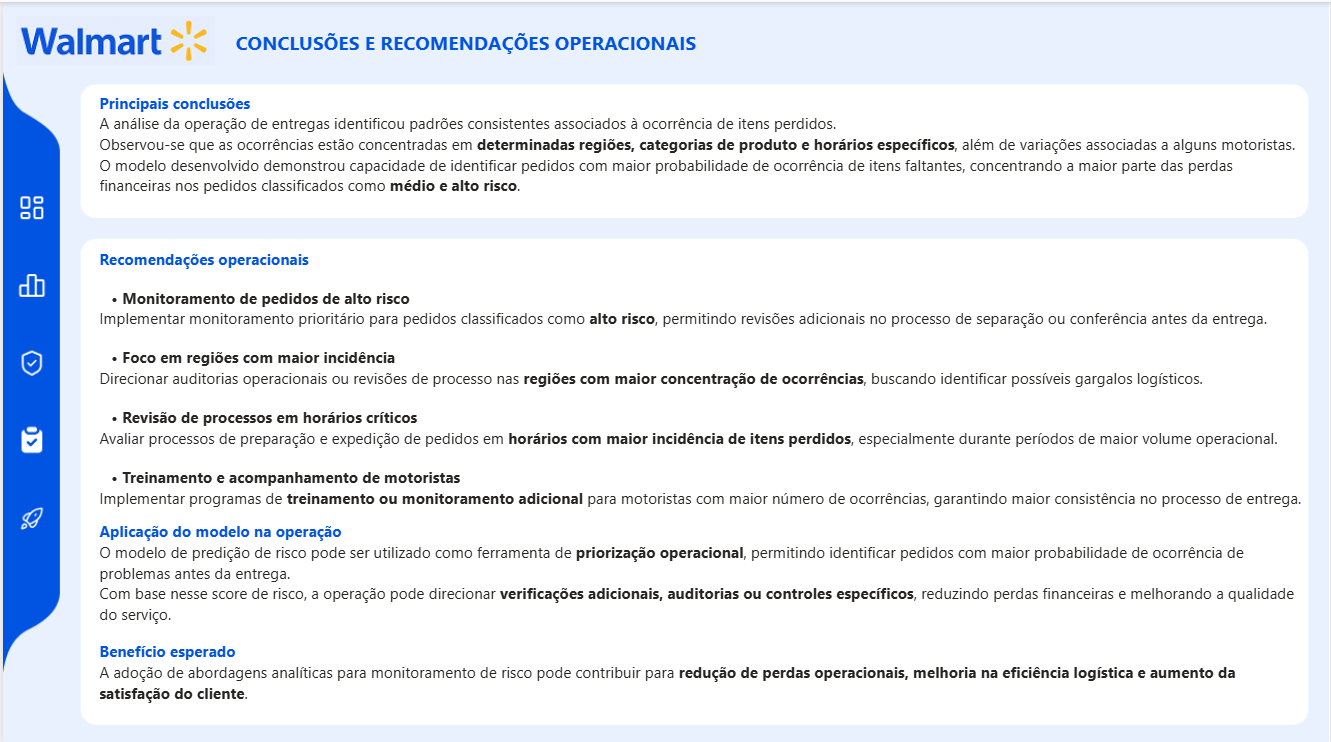

The dashboard page shown, as its layout file describes it:
{"tool":"powerbi","page":{"name":"Conclusão","canvas":[1280,720],"ordinal":3},"visuals":[{"type":"textbox","box":[219.3,21.6,631.9,66.4],"z":0},{"type":"textbox","box":[88,82.2,1174.4,124.1],"z":1000},{"type":"textbox","box":[88,232.3,1174.4,264],"z":2000},{"type":"textbox","box":[88,496.3,1174.4,115.4],"z":3000},{"type":"textbox","box":[88,611.7,1174.4,85.1],"z":4000},{"type":"actionButton","box":[2.4,254.6,51.9,39.8],"z":5000},{"type":"actionButton","box":[2.4,329.4,51.9,39.8],"z":6000},{"type":"actionButton","box":[2.4,403,51.9,39.8],"z":7000},{"type":"actionButton","box":[3.6,477.8,51.9,39.8],"z":8000},{"type":"actionButton","box":[3.6,182.2,51.9,39.8],"z":9000}]}

Visuals, with their boxes on the page's 1280x720 design canvas (x1, y1, x2, y2). These are canvas units, not pixel positions in the 1331x742 screenshot, which may show the page scaled, cropped or inside an application window:
textbox: crop(219, 22, 851, 88)
textbox: crop(88, 82, 1262, 206)
textbox: crop(88, 232, 1262, 496)
textbox: crop(88, 496, 1262, 612)
textbox: crop(88, 612, 1262, 697)
actionButton: crop(2, 255, 54, 294)
actionButton: crop(2, 329, 54, 369)
actionButton: crop(2, 403, 54, 443)
actionButton: crop(4, 478, 56, 518)
actionButton: crop(4, 182, 56, 222)
